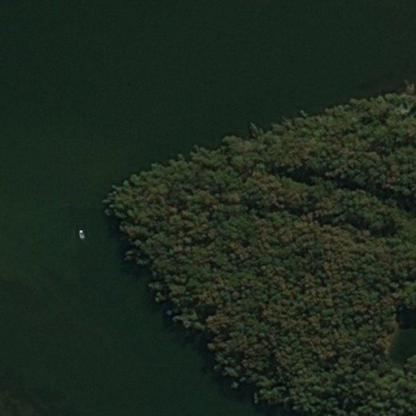ship: (77, 228, 83, 238)
